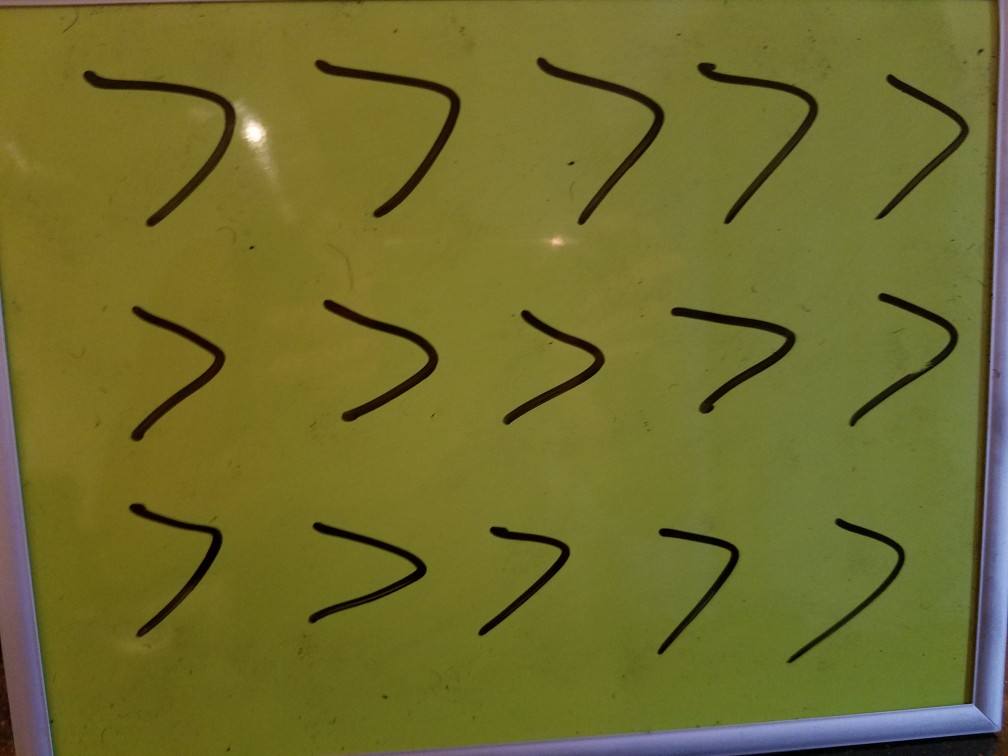>: (66, 41, 242, 226), (762, 483, 920, 674), (521, 35, 671, 236), (324, 32, 463, 230), (105, 275, 246, 459), (307, 266, 448, 450), (694, 44, 827, 235), (660, 279, 805, 445), (468, 279, 615, 441), (105, 475, 244, 646), (285, 493, 446, 639), (611, 504, 754, 663), (835, 262, 964, 435), (862, 39, 971, 229), (458, 489, 585, 646)
